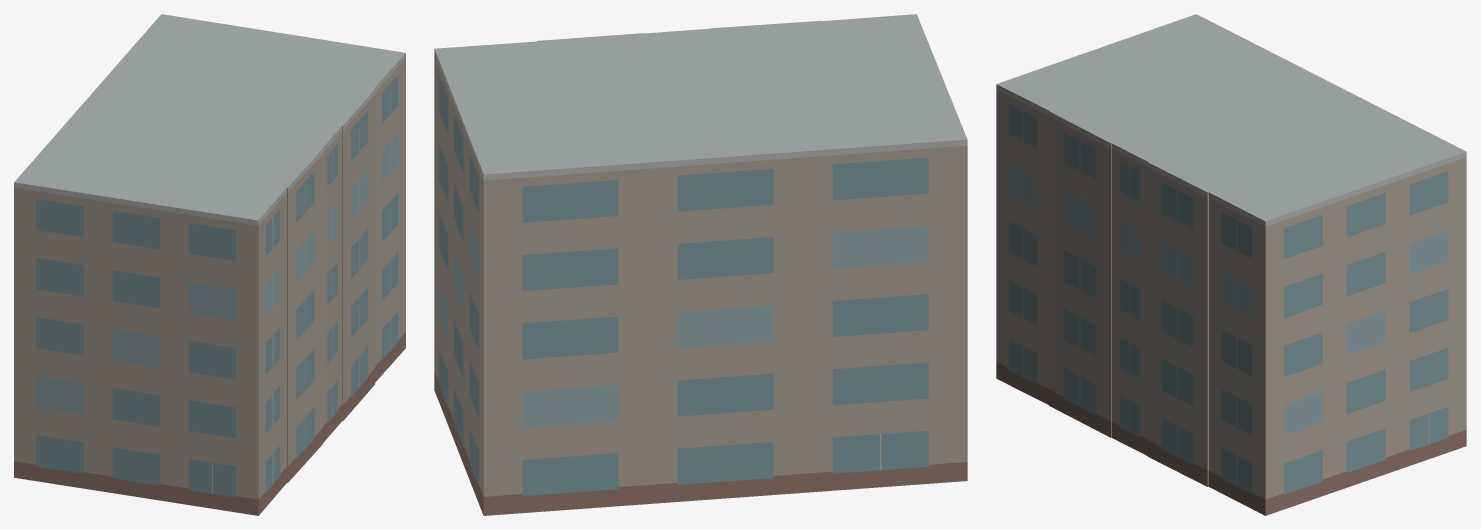
File: survey-upis-32839551.glb
The picture shows the model from 3 angles, left to right: view 1: azimuth 30°, elevation 25°; view 2: azimuth 150°, elevation 25°; view 3: azimuth 270°, elevation 25°; orthographic projection. The views are drawn at different scales.
Parts seen in each view (by area): view 1: survey-upis-32839551.tmp; view 2: survey-upis-32839551.tmp; view 3: survey-upis-32839551.tmp.
Part boxes in pixels (bbox=[...]): survey-upis-32839551.tmp: bbox=[14, 14, 405, 515]; survey-upis-32839551.tmp: bbox=[434, 14, 967, 515]; survey-upis-32839551.tmp: bbox=[996, 14, 1466, 515].
Size of the model in its own units: 20.71 by 13.7 by 19.84.
